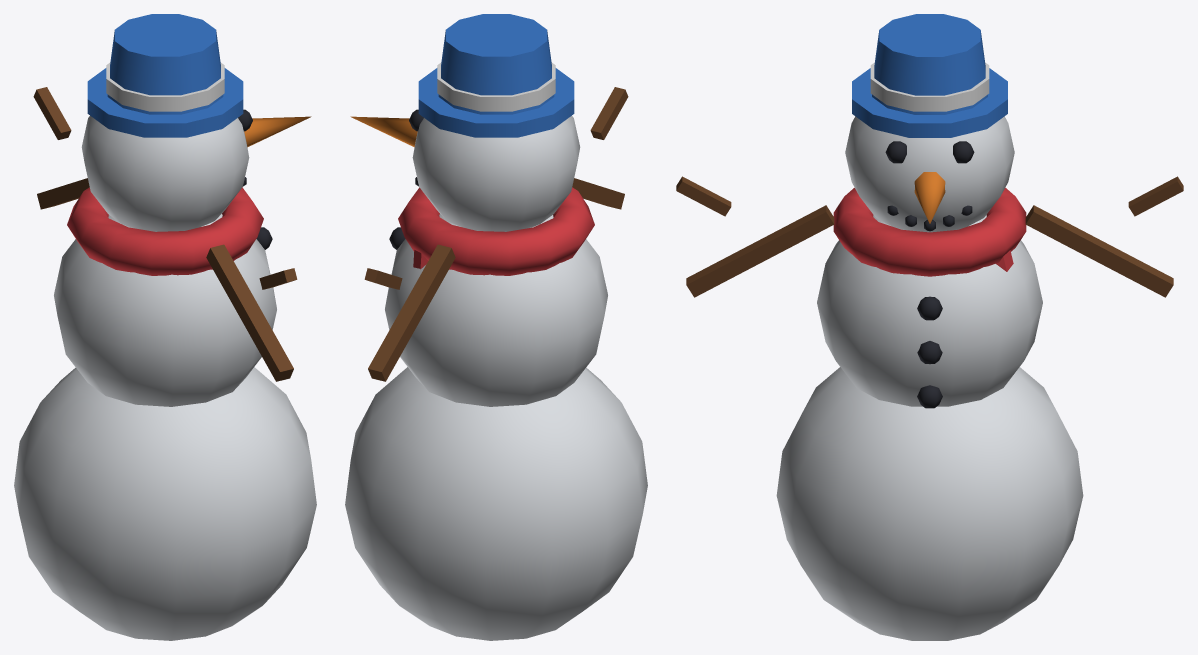
Rendered from ice-prop3.glb.
3 renders of one model, left to right at view 1: azimuth 30°, elevation 25°; view 2: azimuth 150°, elevation 25°; view 3: azimuth 270°, elevation 25°, orthographic.
Parts seen in each view (by area): view 1: ice-prop3; view 2: ice-prop3; view 3: ice-prop3.
Part boxes in pixels (x1,y1,x2,y2): ice-prop3: [14, 14, 316, 640]; ice-prop3: [345, 14, 647, 640]; ice-prop3: [676, 14, 1183, 640].
Bounding box in the file's own units: 0.7901 × 1.56 × 1.26.
